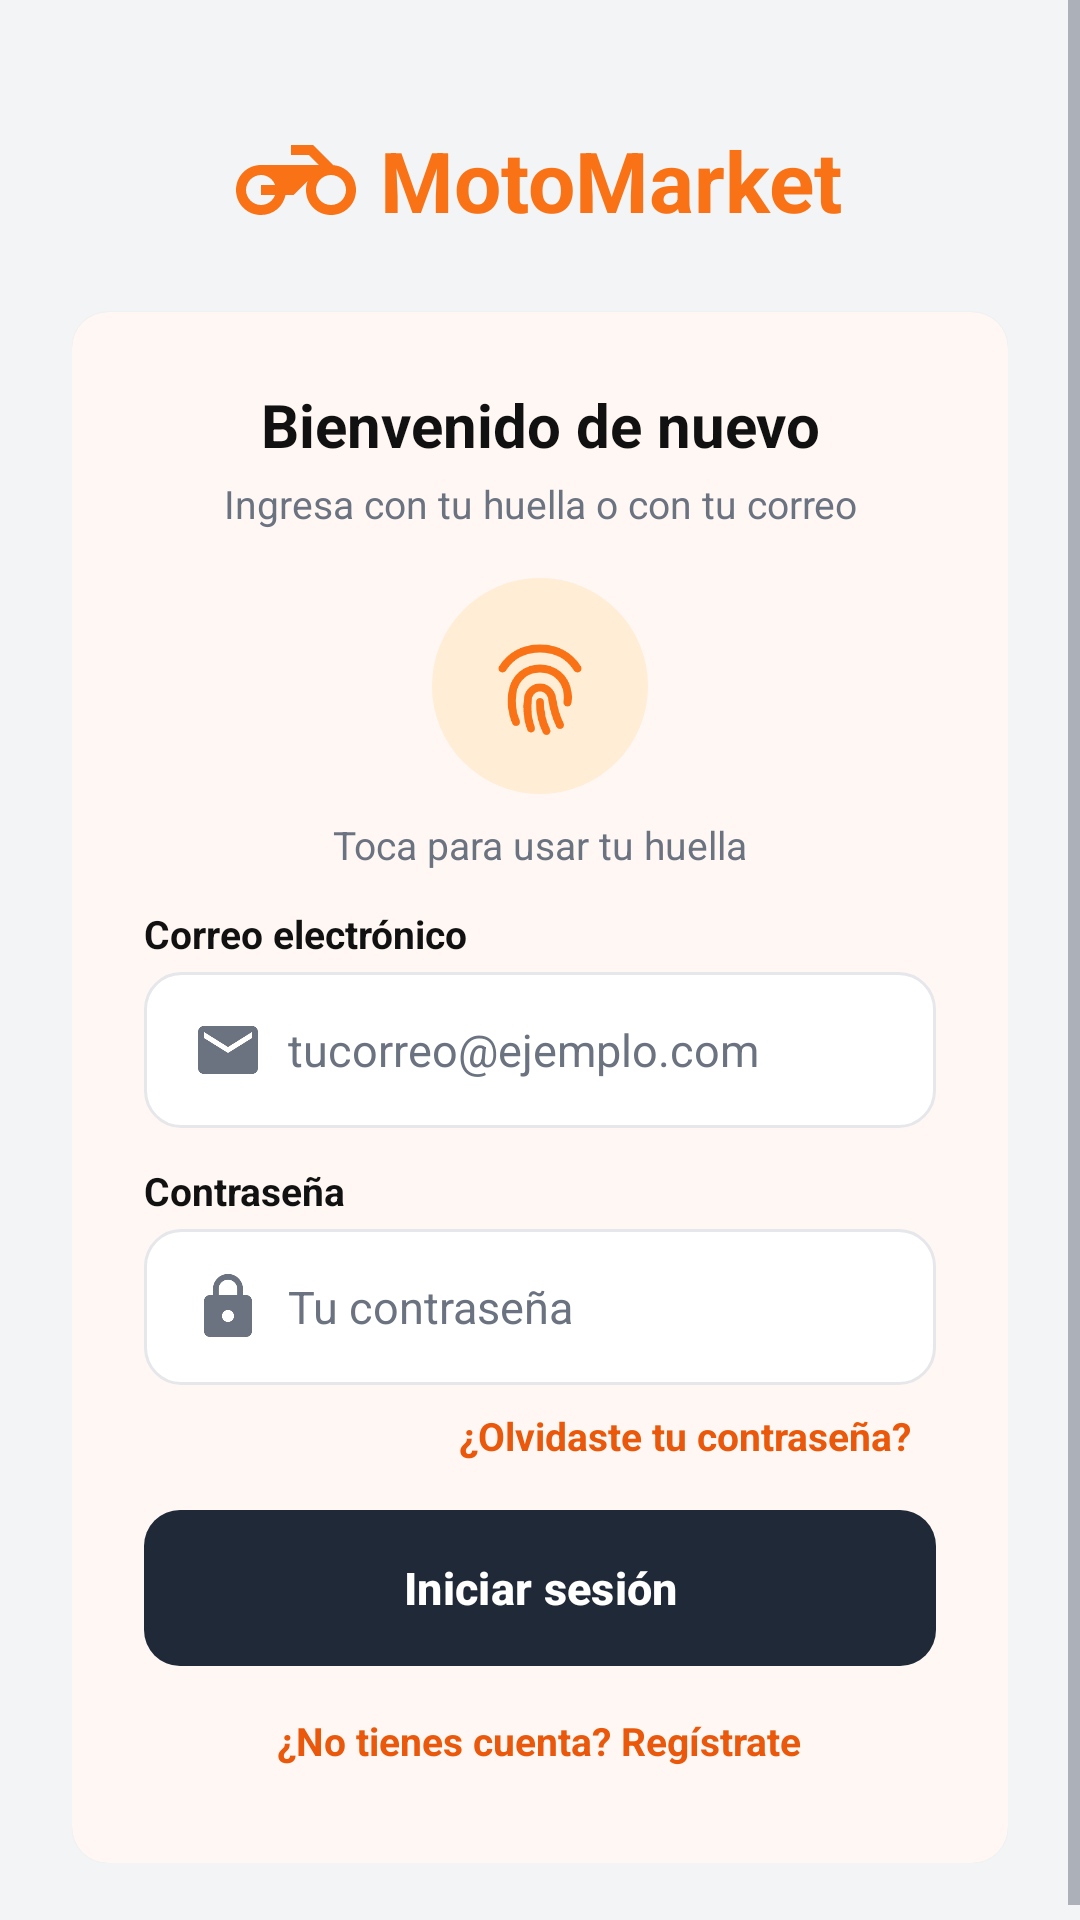

Icons on this 1080*1920 Android screen, each with its box as (x1, y1, x2, y2):
Iniciar sesión con huella: (432, 578, 648, 794)
